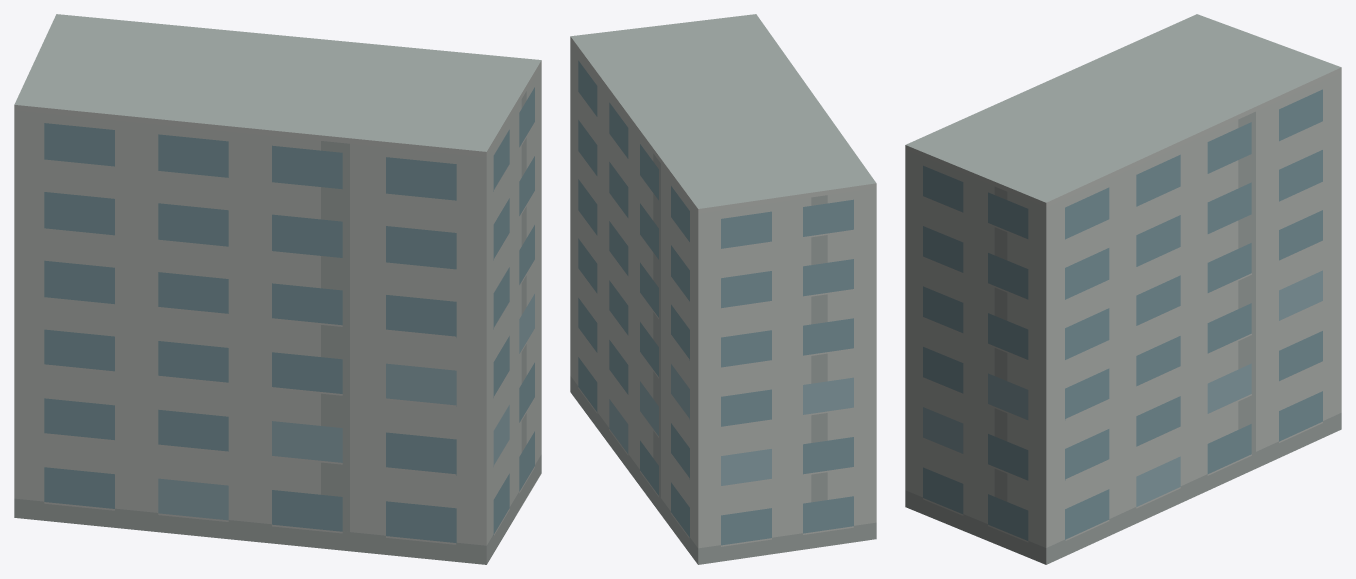
The model's file is survey-upis-32980225.glb.
3 views of the same model, side by side, from view 1: azimuth 30°, elevation 25°; view 2: azimuth 150°, elevation 25°; view 3: azimuth 270°, elevation 25° (orthographic). The views are drawn at different scales.
Visible parts, largest first — view 1: survey-upis-32980225.tmp; view 2: survey-upis-32980225.tmp; view 3: survey-upis-32980225.tmp.
Part boxes in pixels (x1,y1,x2,y2): survey-upis-32980225.tmp: [14, 14, 541, 564]; survey-upis-32980225.tmp: [570, 14, 876, 564]; survey-upis-32980225.tmp: [905, 14, 1341, 564].
Size of the model in its own units: 20.47 by 18.3 by 19.99.
